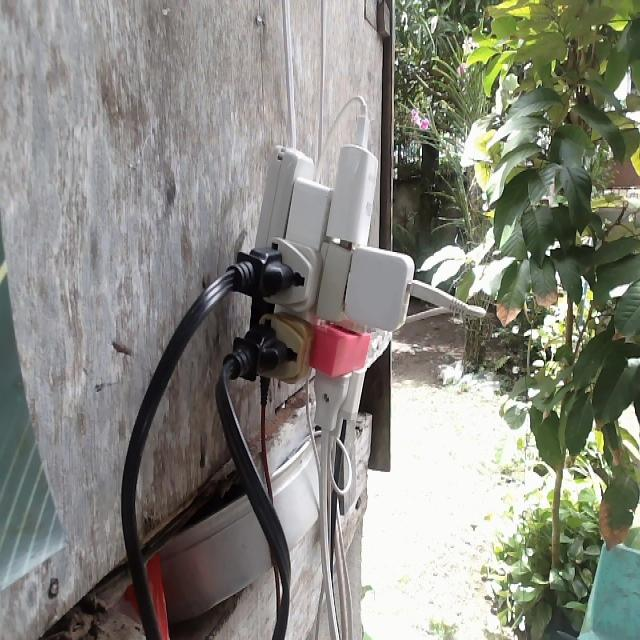-: (213, 103, 423, 436)
